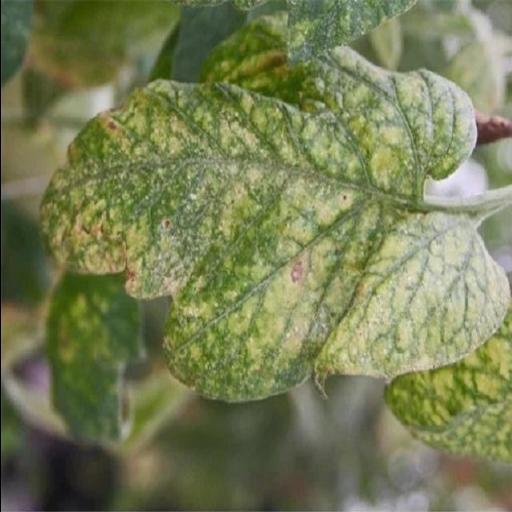Spider Mites: (40, 46, 510, 405)
